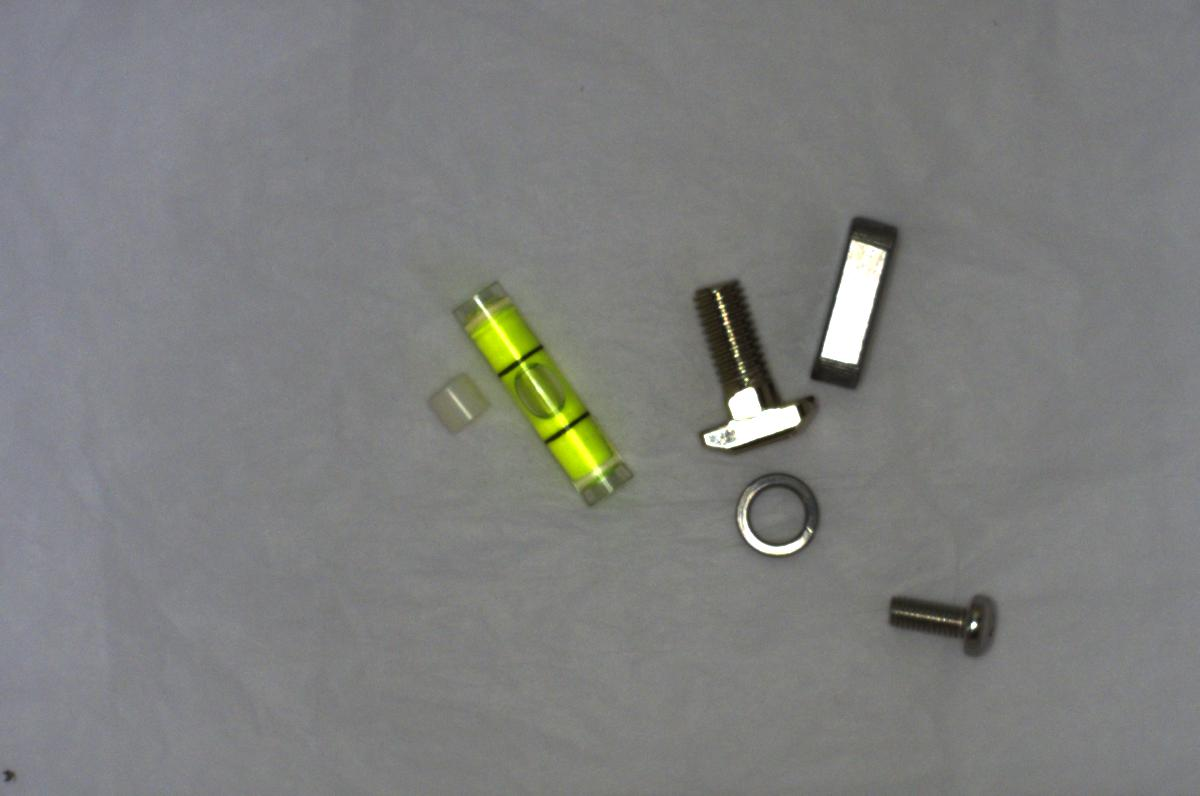Horizontal bubble: (444, 276, 632, 513)
Keybar: (794, 214, 914, 395)
Plastic cushion pillar: (424, 373, 493, 440)
Round head screw: (878, 578, 1001, 659)
Spring washer: (733, 467, 825, 563)
T-shaped screw: (671, 277, 824, 459)
